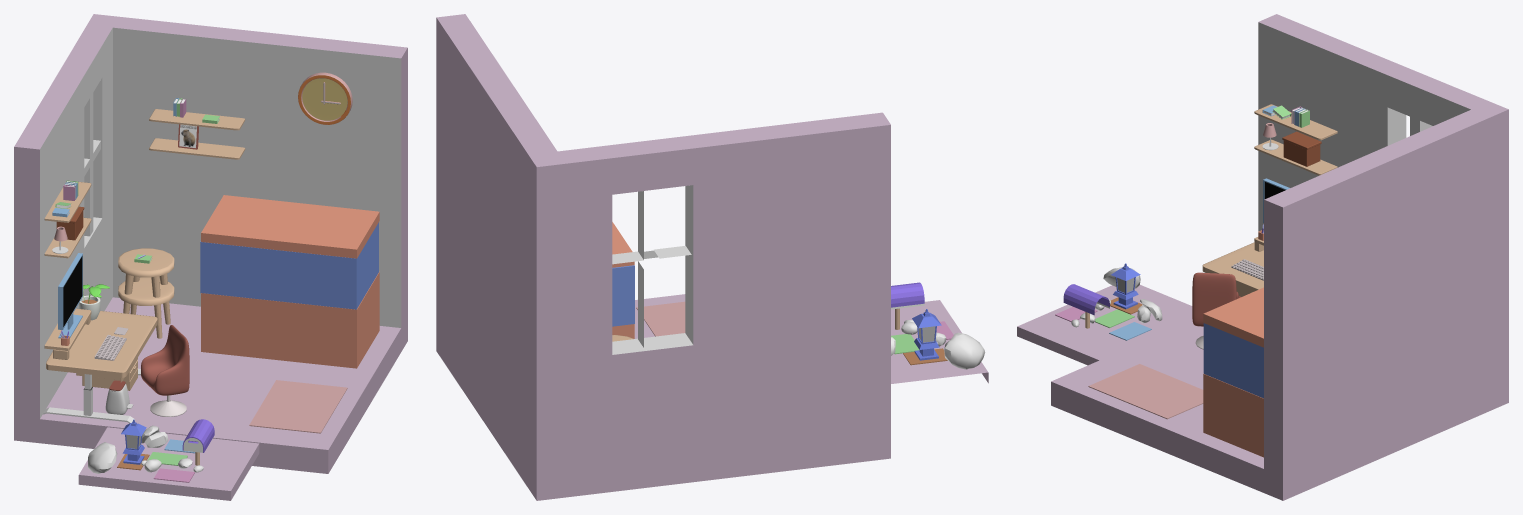
The model's file is updated.glb.
3 renders of one model, left to right at view 1: azimuth 30°, elevation 25°; view 2: azimuth 150°, elevation 25°; view 3: azimuth 270°, elevation 25°, orthographic. The views are drawn at different scales.
Visible parts, largest first — view 1: Cube.003, Cube.018, Cube.036, Cube.024, Table desk, Cube.035, Cube.017, Cylinder.008, Plane, Cylinder.006, Table desk.010, Table desk.009 (+18 smaller); view 2: Cube.003, Cube.024, Plane, Cube.036, Cube.035, rock.024, Plane.001, Cylinder.009, Cube.018; view 3: Cube.003, Cube.018, Cube.024, Cube.035, Cube.036, Cube.017, Table desk, Table desk.007, Cylinder.009, Table desk.006, Table desk.003, Plane.001.
Boxes of the visible parts, <box> form: Cube.003: <box>14,14,407,473</box>; Cube.018: <box>201,195,379,368</box>; Cube.036: <box>200,222,378,309</box>; Cube.024: <box>78,427,259,500</box>; Table desk: <box>46,311,157,377</box>; Cube.035: <box>249,380,347,433</box>; Cube.017: <box>141,325,189,395</box>; Cylinder.008: <box>298,72,352,124</box>; Plane: <box>84,93,100,236</box>; Cylinder.006: <box>118,248,174,277</box>; Table desk.010: <box>149,138,245,159</box>; Table desk.009: <box>149,109,245,130</box>; Cube.003: <box>436,14,890,500</box>; Cube.024: <box>891,300,988,383</box>; Plane: <box>612,191,691,347</box>; Cube.036: <box>612,265,634,326</box>; Cube.035: <box>636,301,685,336</box>; rock.024: <box>944,332,985,369</box>; Plane.001: <box>912,309,941,360</box>; Cylinder.009: <box>891,282,924,309</box>; Cube.018: <box>612,222,634,338</box>; Cube.003: <box>1051,14,1508,500</box>; Cube.018: <box>1203,287,1263,457</box>; Cube.024: <box>1017,285,1192,365</box>; Cube.035: <box>1088,364,1203,419</box>; Cube.036: <box>1203,323,1263,398</box>; Cube.017: <box>1192,272,1238,326</box>; Table desk: <box>1202,242,1263,292</box>; Table desk.007: <box>1282,131,1321,166</box>; Cylinder.009: <box>1063,284,1109,315</box>; Table desk.006: <box>1254,104,1337,140</box>; Table desk.003: <box>1254,139,1337,175</box>; Plane.001: <box>1111,263,1140,309</box>.
Size of the model in its own units: 42.66 by 29.38 by 44.62.
Materials: 30 (1 with a texture image).
